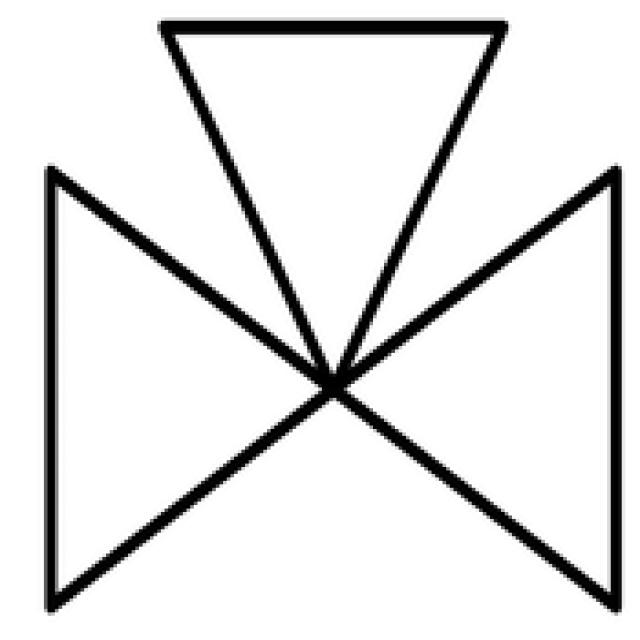3-way Valve: (161, 27, 505, 390), (48, 168, 331, 606), (337, 173, 615, 608)
